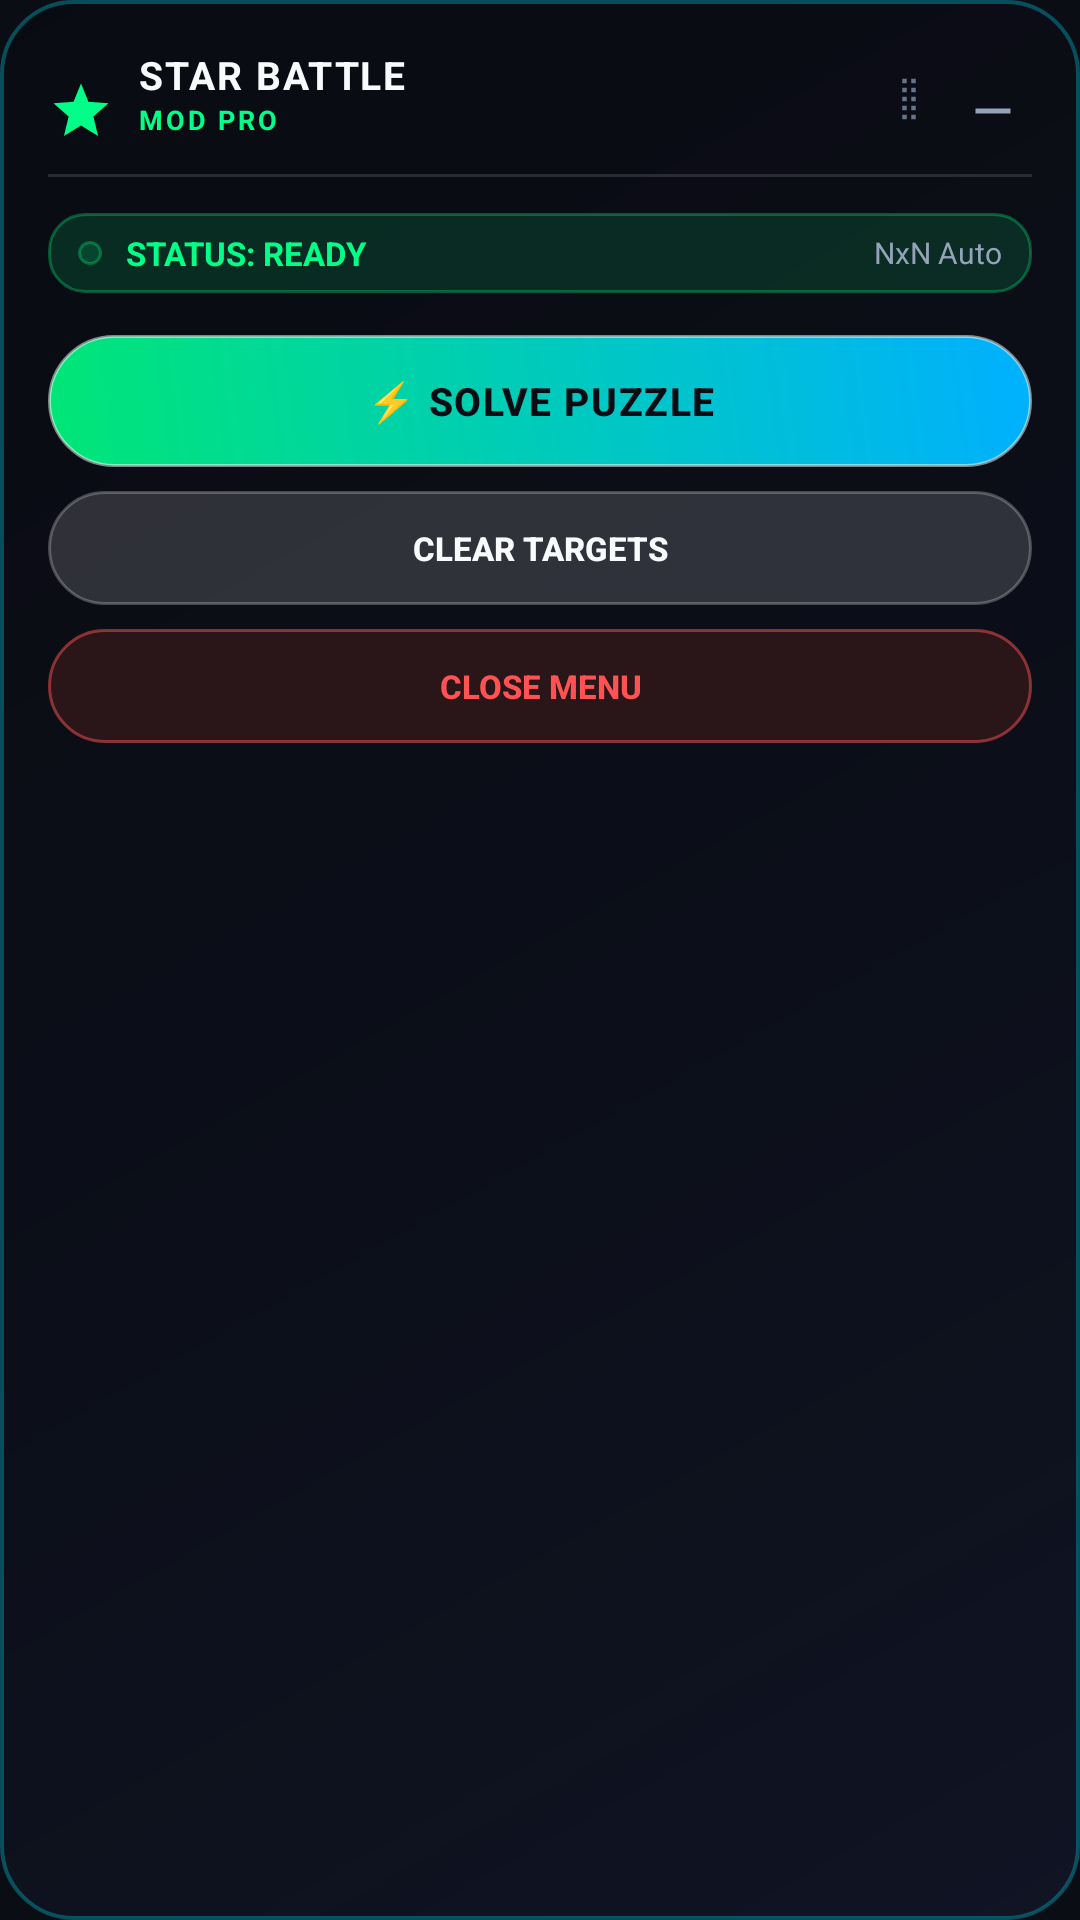

Where icons sit on this 1080 x 1920 app screen, as region(x1, y1, x2, y2):
Drag: region(902, 78, 916, 120)
Minimize: region(975, 108, 1011, 114)
